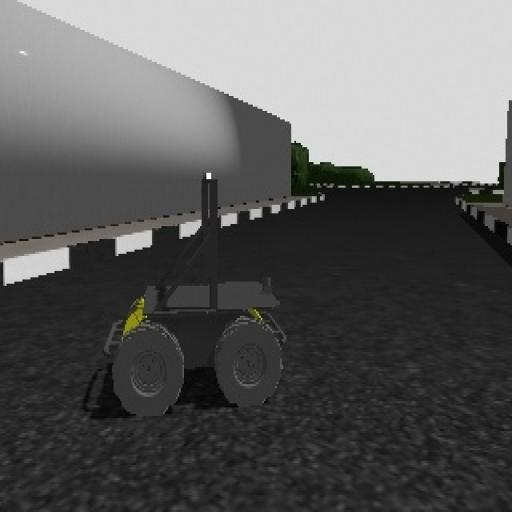huskya200: (76, 156, 324, 424)
